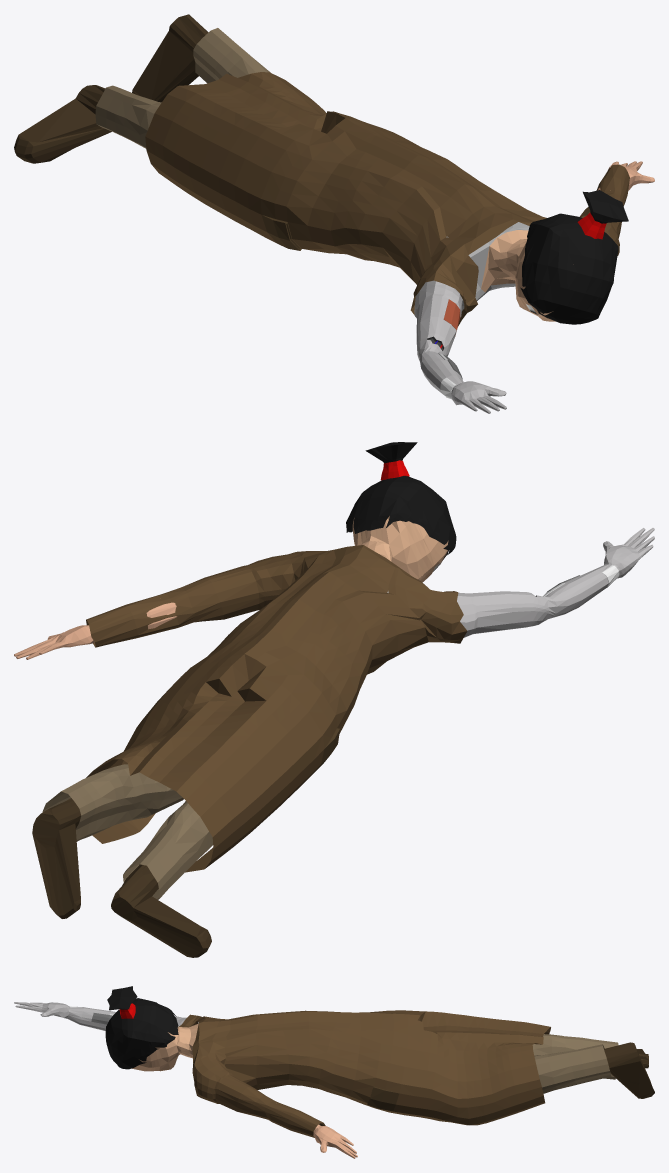
File: One_Die_000049.obj
3 renders of one model, top to bottom at view 1: azimuth 30°, elevation 25°; view 2: azimuth 150°, elevation 25°; view 3: azimuth 270°, elevation 25°, orthographic. The views are drawn at different scales.
Parts seen in each view (by area): view 1: Hair_Cube.004; view 2: Hair_Cube.004; view 3: Hair_Cube.004.
Boxes of the visible parts, left/top/right/bottom form: Hair_Cube.004: left=14, top=14, right=654, bottom=413; Hair_Cube.004: left=14, top=442, right=654, bottom=957; Hair_Cube.004: left=14, top=986, right=654, bottom=1158.
Size of the model in its own units: 2.28 by 1.1 by 4.63.
